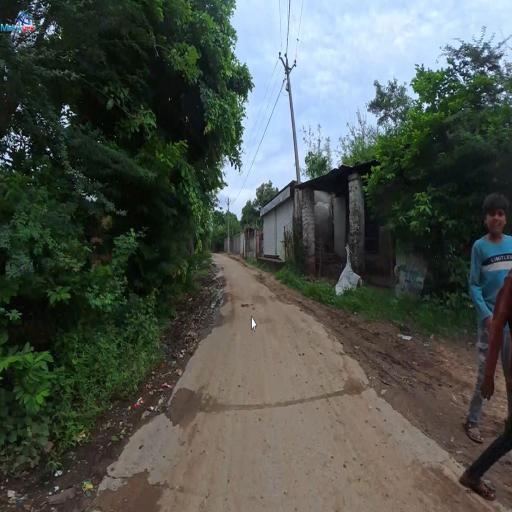longitudinal_crack: (197, 388, 350, 416)
